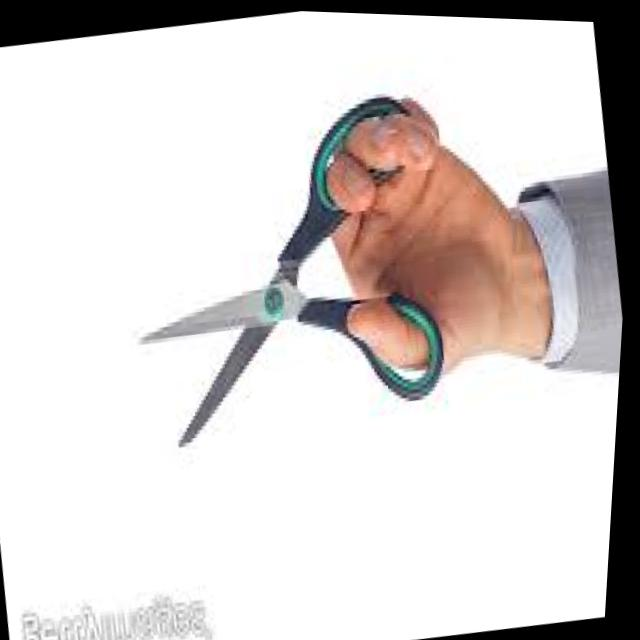scissor: (101, 81, 469, 465)
